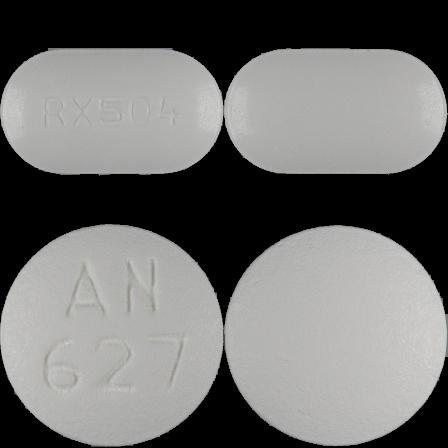67296-0375: (0, 0, 224, 224)
